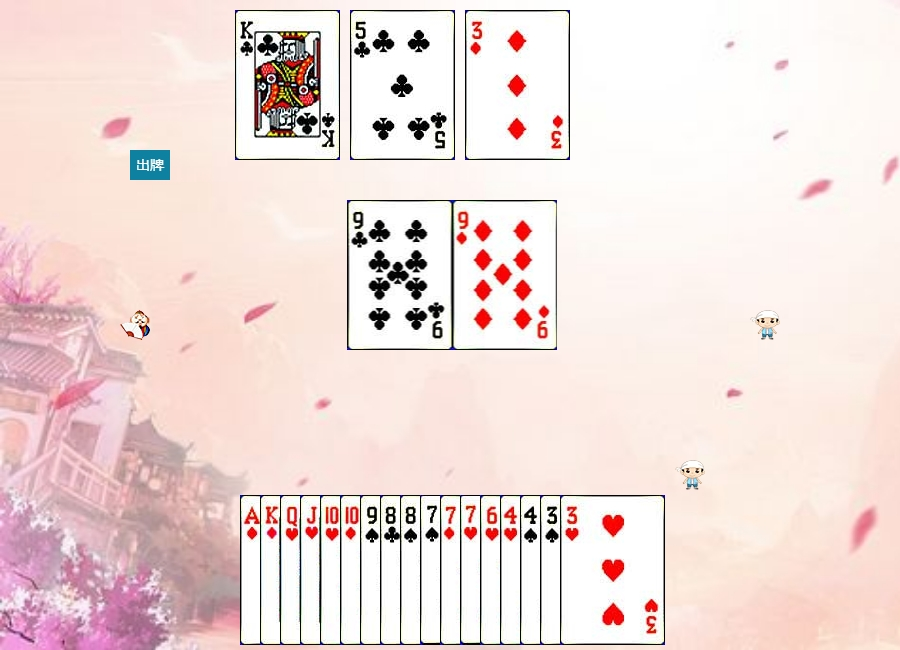10~1: (340, 495, 445, 645)
10~3: (320, 495, 425, 645)
11~3: (300, 495, 405, 645)
12~3: (280, 495, 385, 645)
13~1: (260, 495, 365, 645)
13~2: (235, 10, 340, 160)
14~1: (240, 495, 345, 645)
3~1: (465, 10, 570, 160)
3~3: (560, 495, 665, 645)
3~4: (540, 495, 645, 645)
4~3: (500, 495, 605, 645)
4~4: (520, 495, 625, 645)
5~2: (350, 10, 455, 160)
6~3: (480, 495, 585, 645)
7~1: (440, 495, 545, 645)
7~3: (460, 495, 565, 645)
7~4: (420, 495, 525, 645)
8~2: (380, 495, 485, 645)
8~4: (400, 495, 505, 645)
9~1: (453, 200, 558, 350)
9~2: (348, 200, 453, 350)
9~4: (360, 495, 465, 645)
